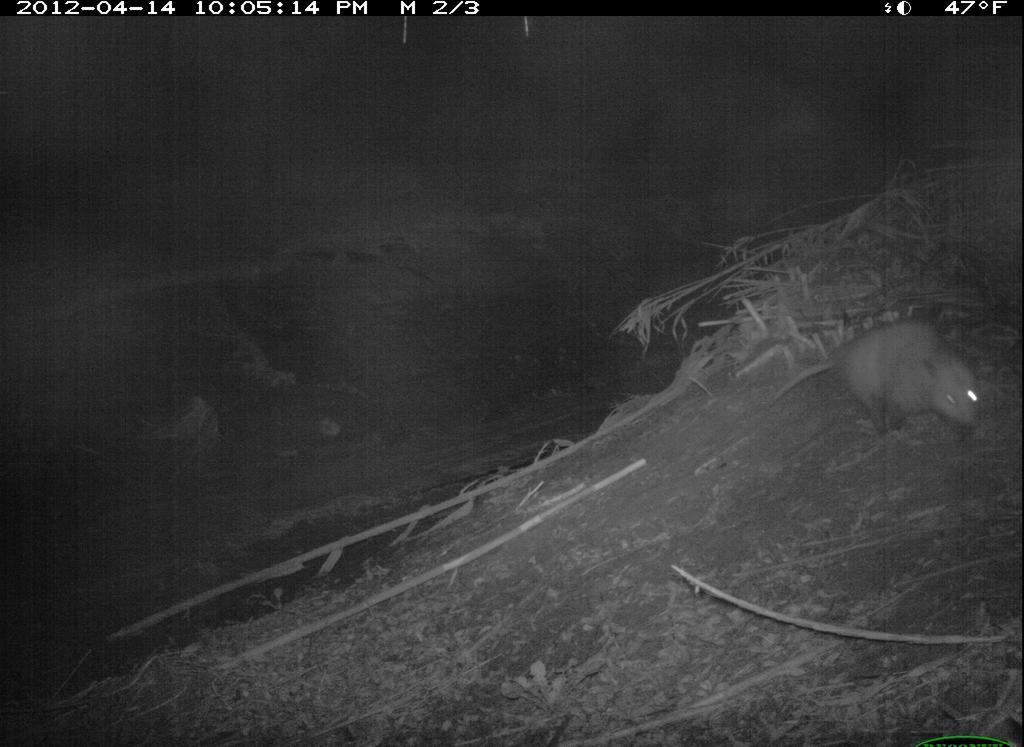opossum: (760, 305, 993, 449)
